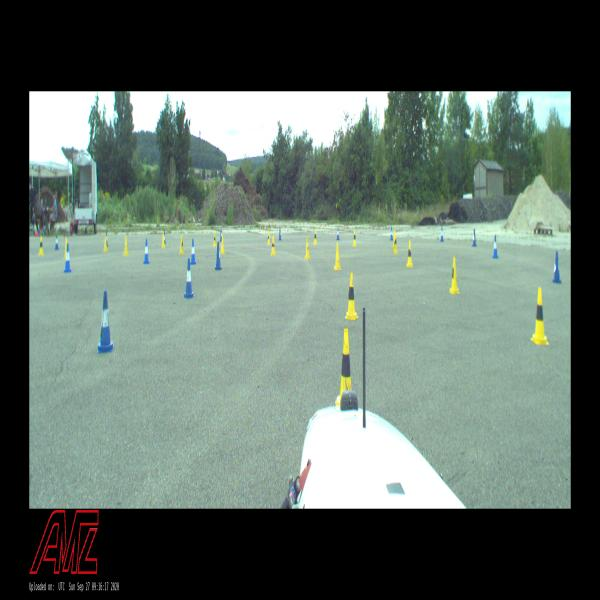blue_cone: (98, 291, 114, 352), (184, 259, 195, 297), (553, 252, 561, 282), (64, 243, 71, 273), (215, 242, 222, 269), (190, 239, 196, 264), (144, 240, 150, 264), (493, 236, 498, 258), (440, 226, 444, 241), (55, 235, 59, 250), (473, 229, 476, 246), (278, 228, 282, 240), (390, 226, 393, 240), (337, 227, 340, 240), (106, 232, 108, 247), (164, 230, 166, 243), (220, 229, 222, 241)
yellow_cone: (336, 329, 352, 405), (530, 288, 549, 344), (344, 272, 358, 320), (450, 257, 459, 293), (406, 240, 413, 266), (334, 244, 341, 270), (304, 236, 310, 259), (39, 235, 44, 255), (271, 235, 276, 255), (123, 236, 128, 256), (393, 234, 398, 253), (220, 235, 225, 254), (180, 235, 184, 254), (104, 235, 108, 252), (64, 238, 67, 259), (213, 231, 217, 246), (392, 230, 395, 247), (353, 230, 356, 246), (314, 230, 317, 245), (162, 232, 165, 247), (268, 230, 270, 245)
